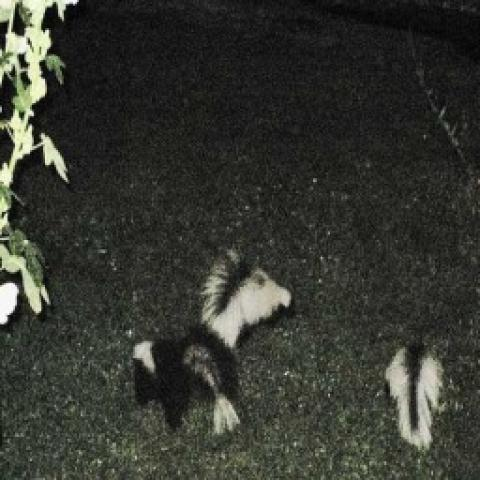small_animal: (128, 244, 294, 437), (382, 340, 450, 452)
